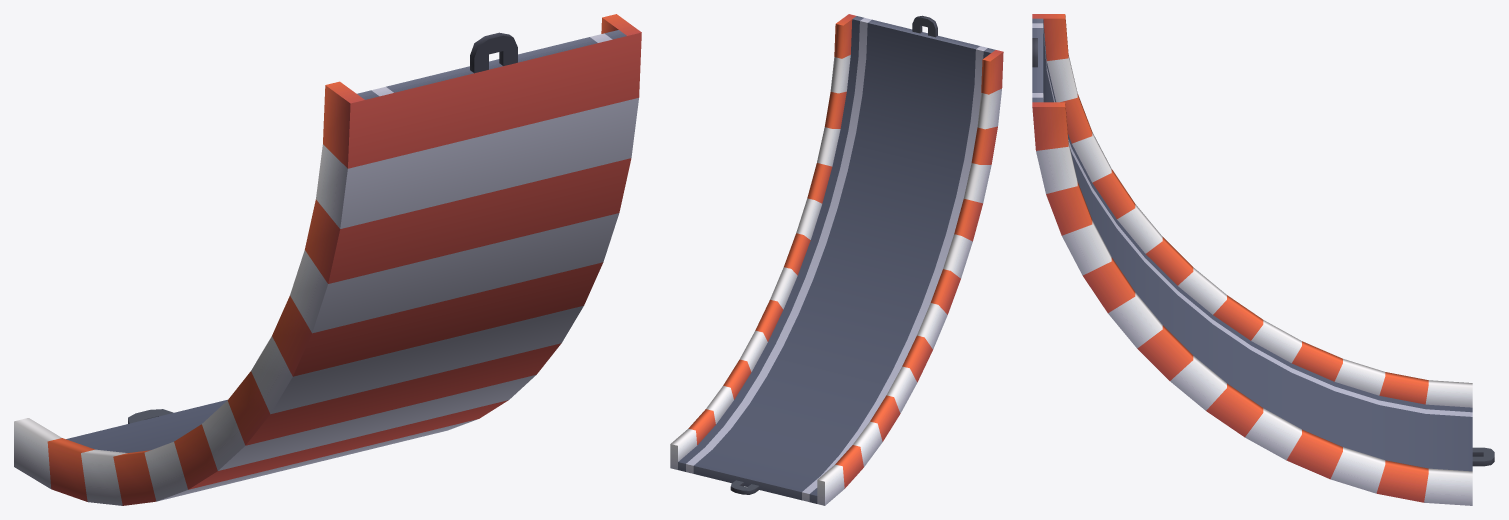
File: track-road-wide-straight-bend-large.glb
The picture shows the model from 3 angles, left to right: view 1: azimuth 30°, elevation 25°; view 2: azimuth 150°, elevation 25°; view 3: azimuth 270°, elevation 25°; orthographic projection. The views are drawn at different scales.
Visible parts, largest first — view 1: track-road-wide-straight-bend-large; view 2: track-road-wide-straight-bend-large; view 3: track-road-wide-straight-bend-large.
Boxes of the visible parts, <box> form: track-road-wide-straight-bend-large: <box>14,14,641,505</box>; track-road-wide-straight-bend-large: <box>670,14,1003,505</box>; track-road-wide-straight-bend-large: <box>1032,14,1494,505</box>.
Bounding box in the file's own units: 2 × 4.2 × 4.2.
1 material, 1 textured.
